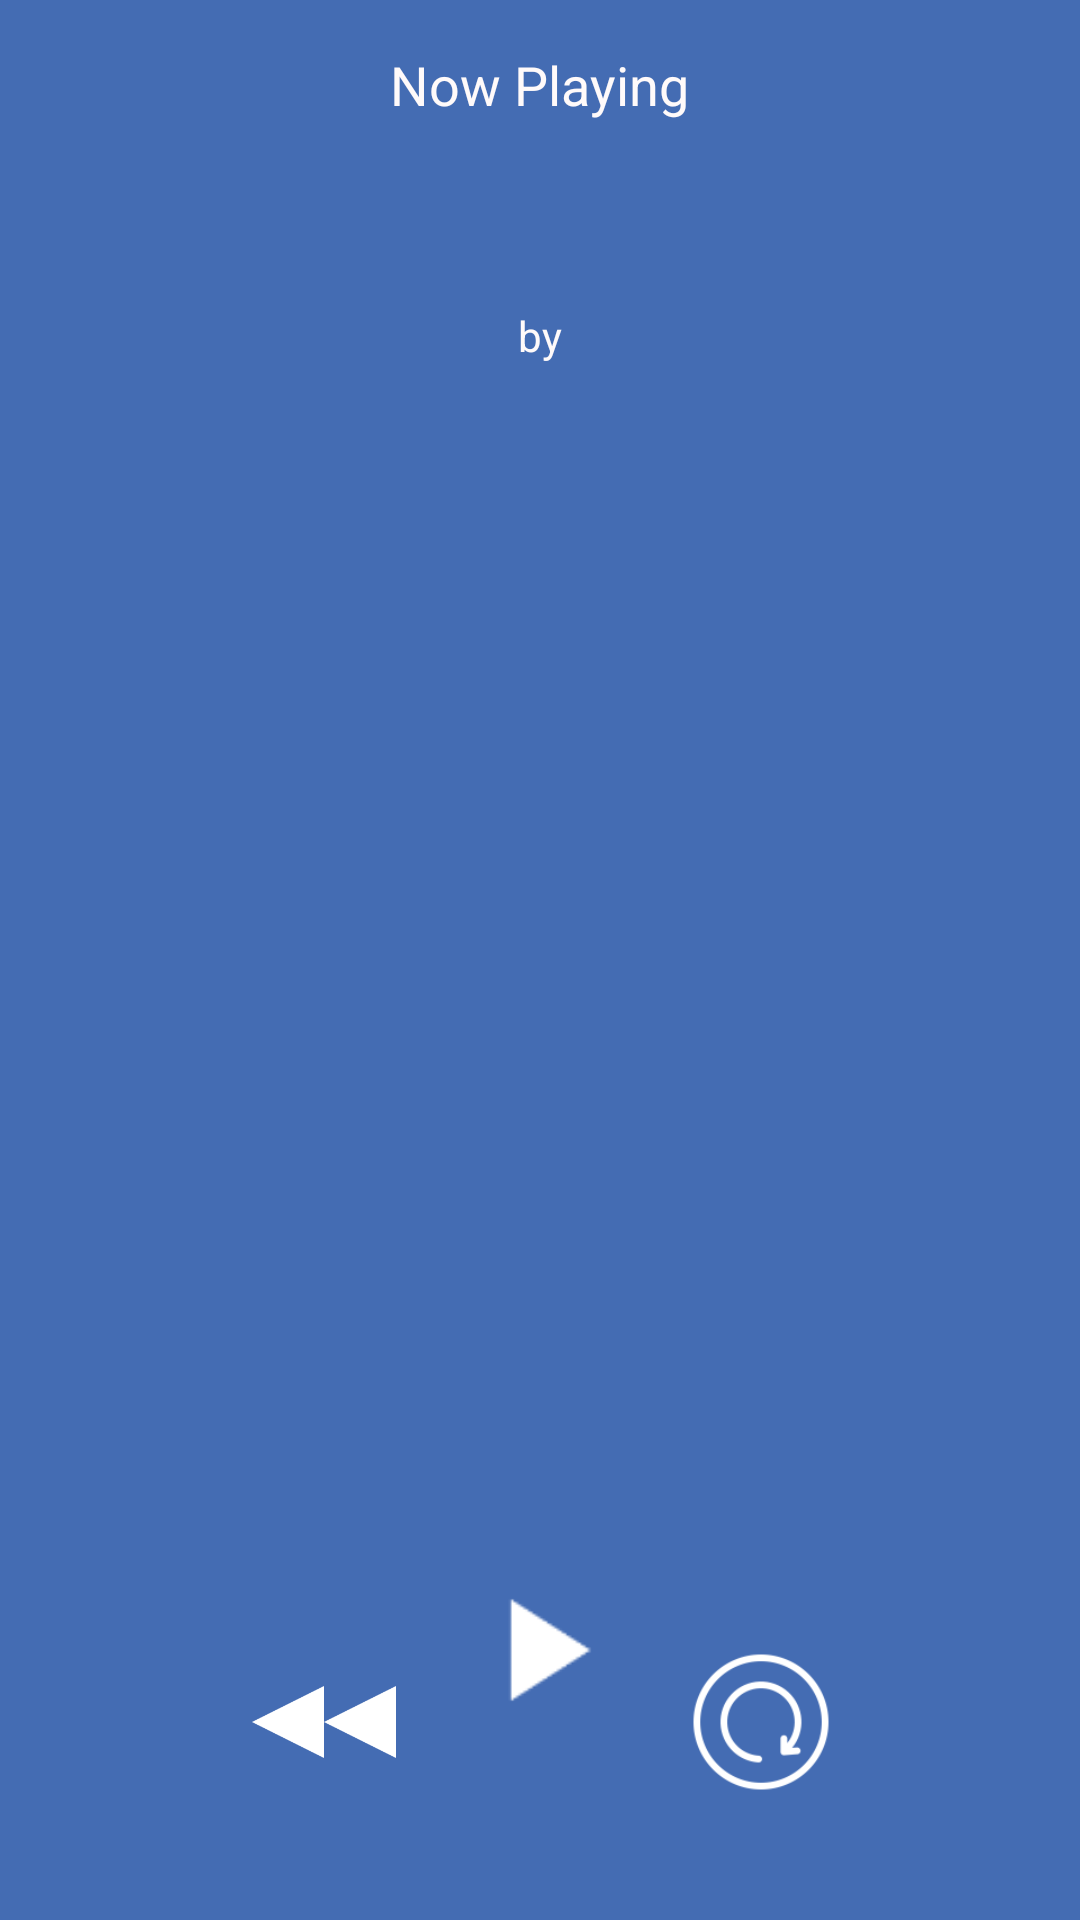

Screen size 1080x1920. Icon name, then its box in pixels as (x1, y1, x2, y2):
play: (510, 1599, 591, 1701)
rewind: (252, 1686, 396, 1758)
